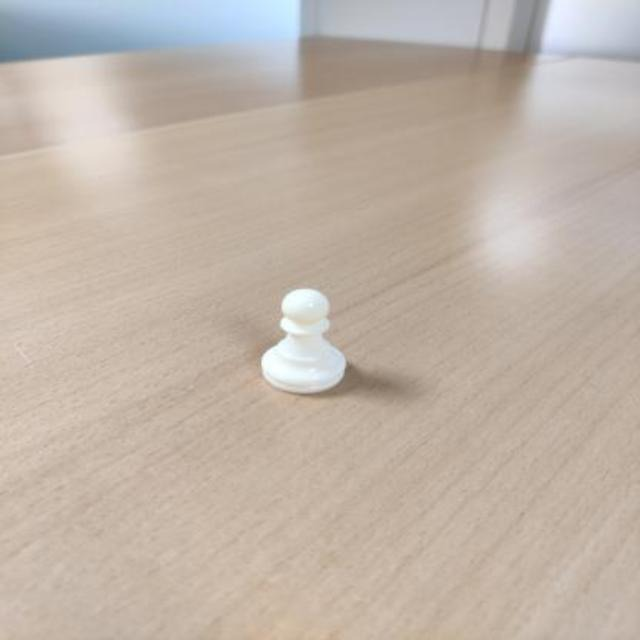white-pawn: (260, 289, 352, 395)
